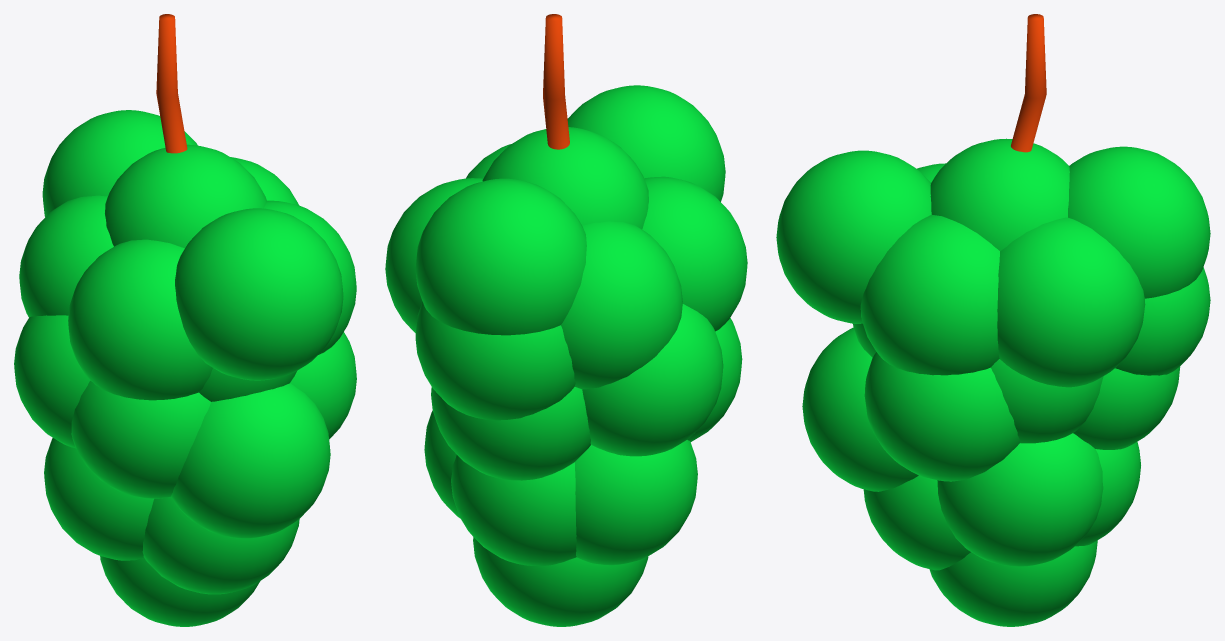
Rendered from uvas.fbx.
The picture shows the model from 3 angles, left to right: view 1: azimuth 30°, elevation 25°; view 2: azimuth 150°, elevation 25°; view 3: azimuth 270°, elevation 25°; orthographic projection. The views are drawn at different scales.
Visible parts, largest first — view 1: Sphere.016; view 2: Sphere.016; view 3: Sphere.016.
Part boxes in pixels (x1,y1,x2,y2): Sphere.016: [14, 14, 356, 626]; Sphere.016: [385, 14, 747, 626]; Sphere.016: [776, 14, 1210, 626].
Size of the model in its own units: 1.33 by 1.03 by 2.03.
